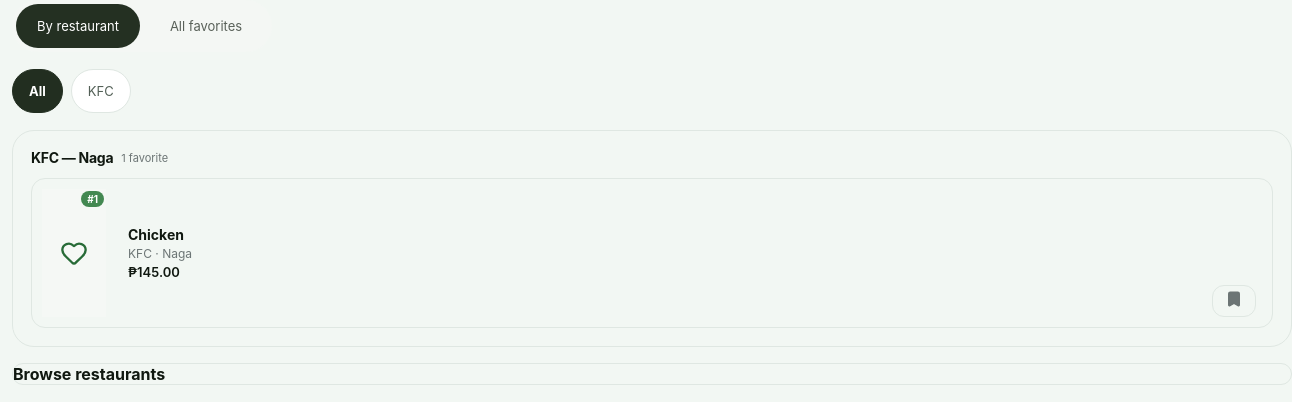
Test: switches favorites between restaurant sections and all meals
The image size is (1292, 402).
Expected: the heading "KFC — Naga" is shown, [31,149,113,166]
What coordinates should you click on to do the following:
click the button "All favorites"
I would click on:
 (206, 26)
Its box is [144,4,268,48].
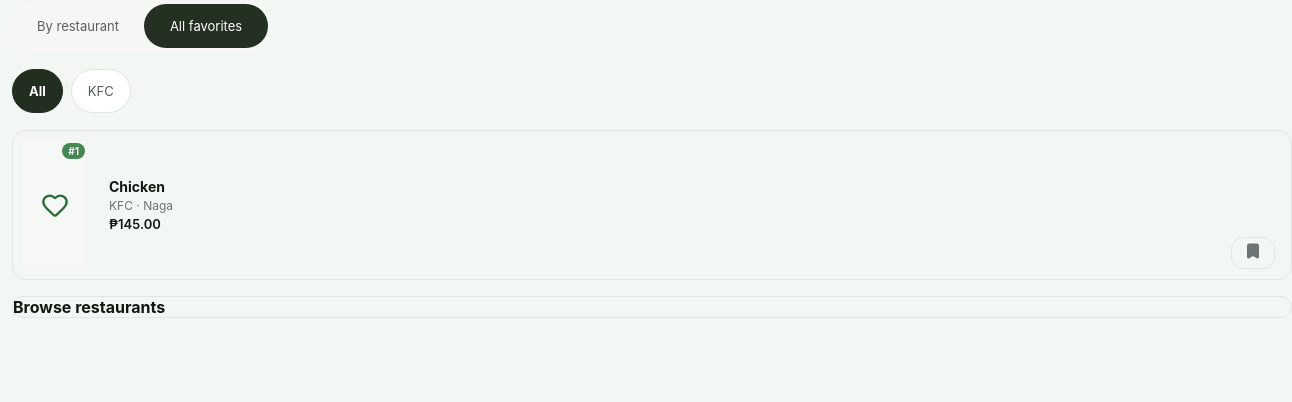
Expected: the text "Chicken" is shown, [109,178,165,195]
Result: the heading "KFC — Naga" is gone
What coordinates should you click on to do the following:
click the button "By restaurant"
I would click on:
 (78, 26)
Its box is [16,4,140,48].
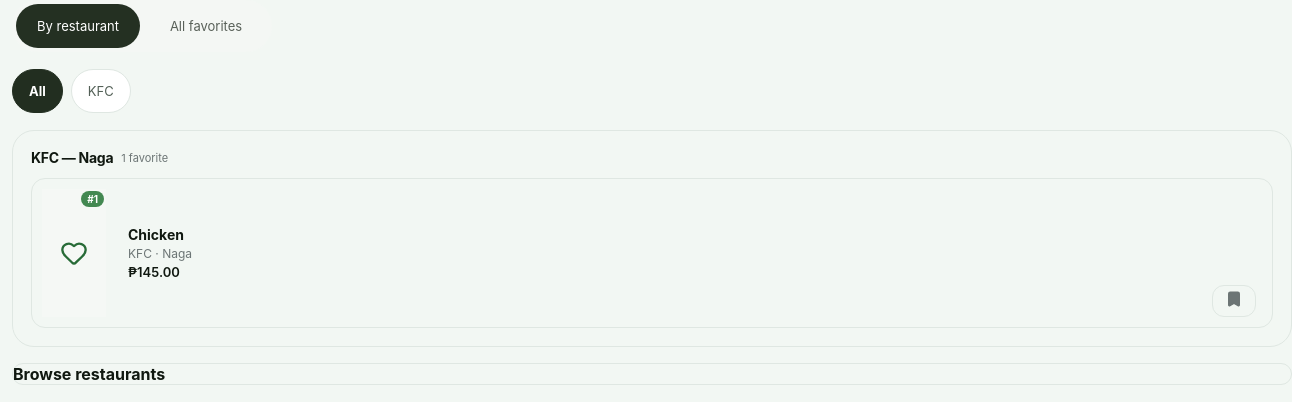
Result: the heading "KFC — Naga" is shown at [31,149,113,166]
